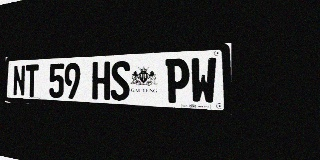5: (49, 63, 64, 98)
9: (64, 63, 80, 99)
H: (92, 61, 110, 100)
N: (13, 65, 25, 97)
P: (165, 58, 189, 103)
S: (111, 61, 130, 101)
T: (25, 64, 39, 97)
W: (190, 57, 217, 105)
